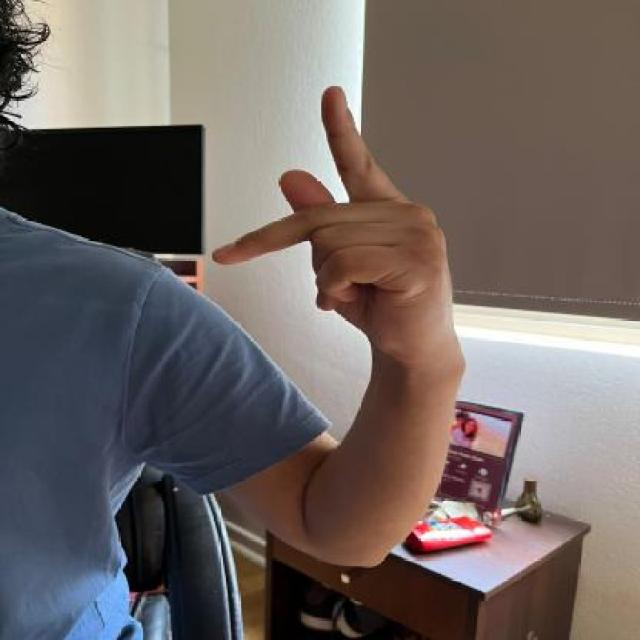K: (207, 78, 458, 358)
